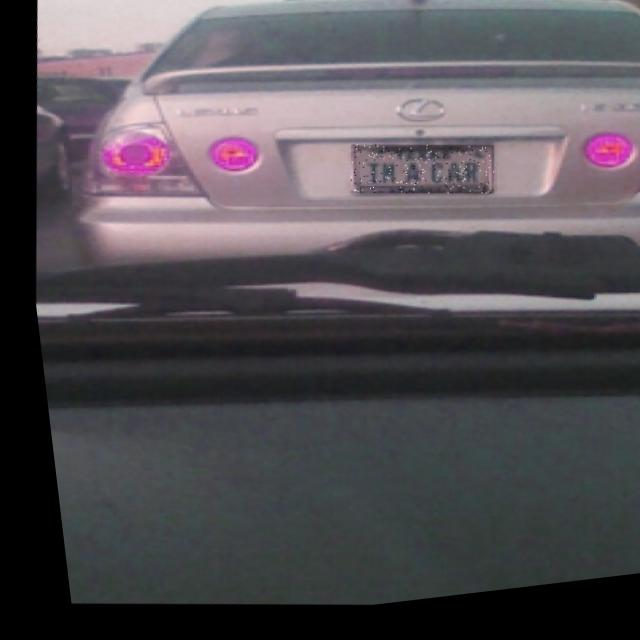license_plate: (340, 139, 493, 218)
